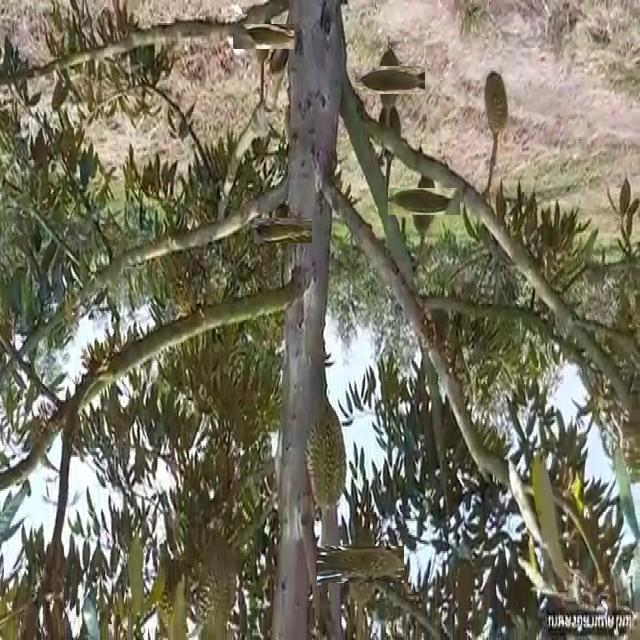durian: (301, 403, 348, 516), (329, 533, 392, 596), (400, 177, 450, 227), (365, 55, 415, 104), (482, 65, 512, 140), (242, 15, 285, 58), (376, 103, 404, 166), (262, 210, 303, 251)
